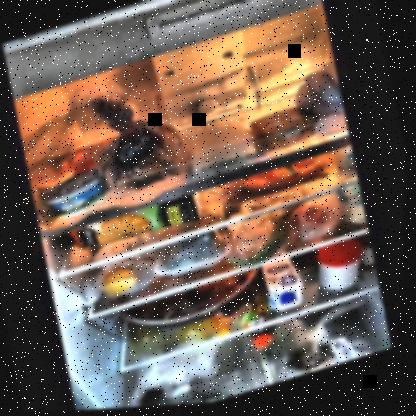broccoli: (155, 230, 232, 277)
butter: (252, 105, 319, 153)
carrot: (224, 157, 330, 209)
cheese: (187, 118, 259, 169)
green_chillies: (227, 216, 303, 273)
lemon: (100, 262, 150, 303)
milk: (263, 261, 310, 317)
tomato: (303, 203, 341, 233)
yoghurt: (43, 170, 110, 219)
